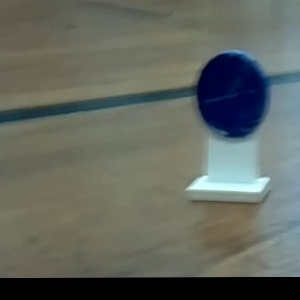circle: (163, 43, 284, 209)
